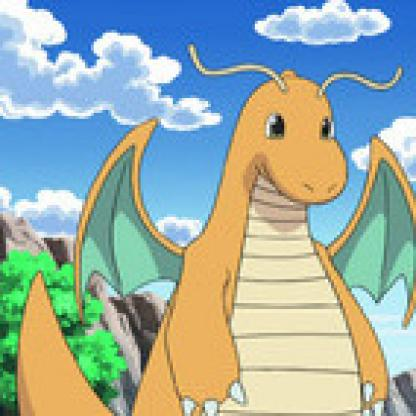Dragonite: (19, 55, 414, 414)
